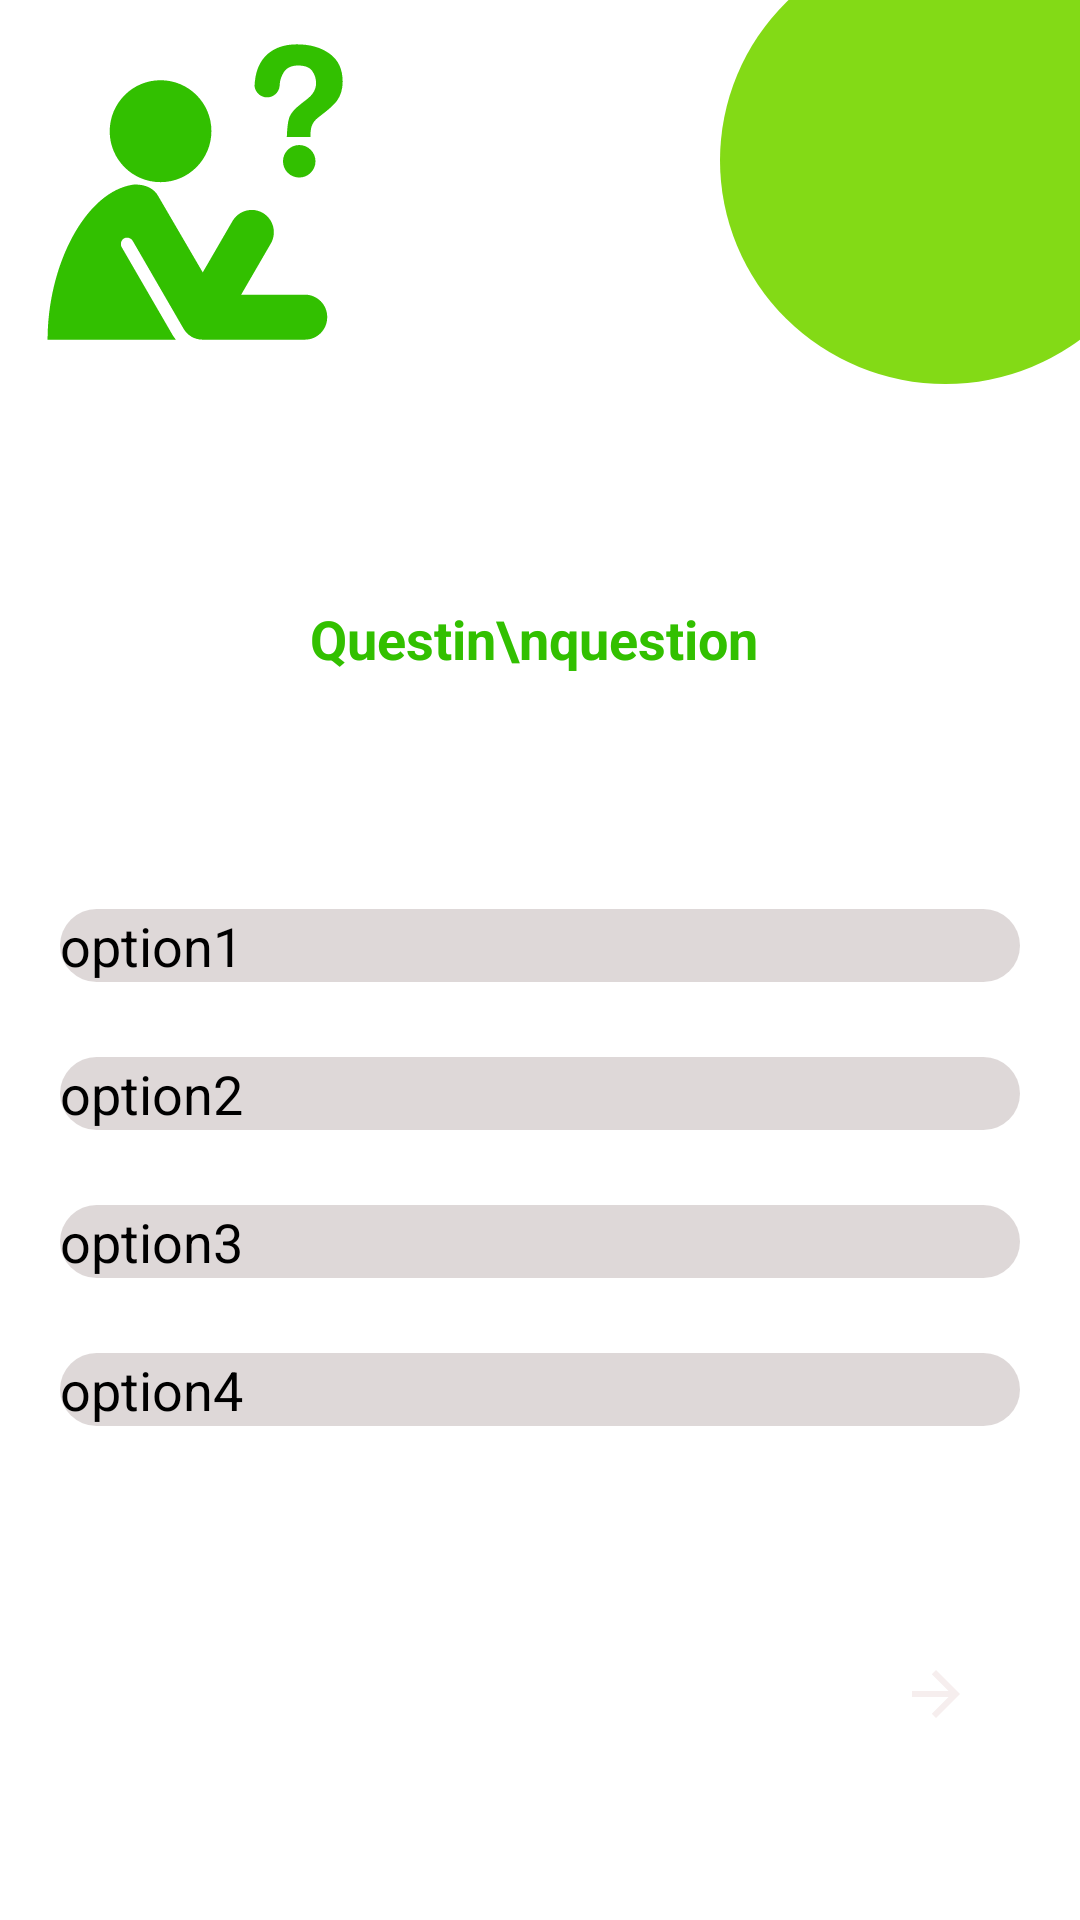

Locate icon controls on the screen. Image size 1080 × 1920, boxes as bbox=(x1, y1, x2, y2).
thinker: bbox=(47, 44, 343, 340)
